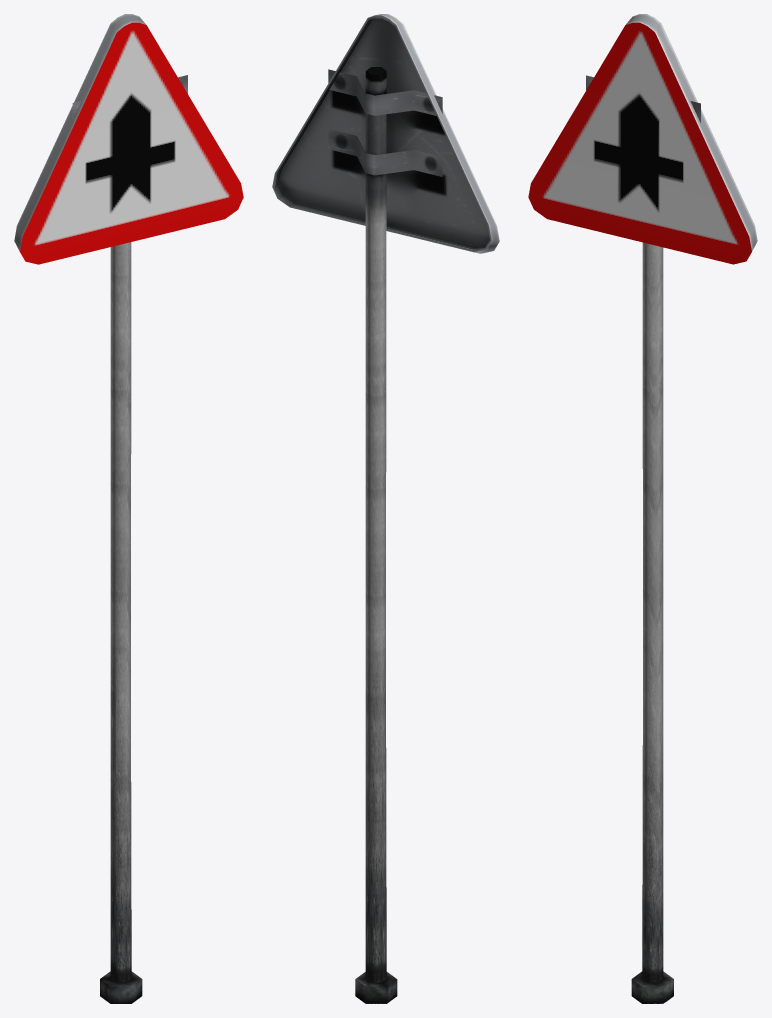
File: ROD0310087.FBX
3 renders of one model, left to right at view 1: azimuth 30°, elevation 25°; view 2: azimuth 150°, elevation 25°; view 3: azimuth 330°, elevation 25°, orthographic.
Visible parts, largest first — view 1: smROD0310087; view 2: smROD0310087; view 3: smROD0310087.
Boxes of the visible parts, <box> form: smROD0310087: <box>14,14,243,1003</box>; smROD0310087: <box>272,14,499,1003</box>; smROD0310087: <box>528,14,757,1003</box>.
Bounding box in the file's own units: 0.7052 × 2.97 × 0.1216.
1 material, 1 textured.
